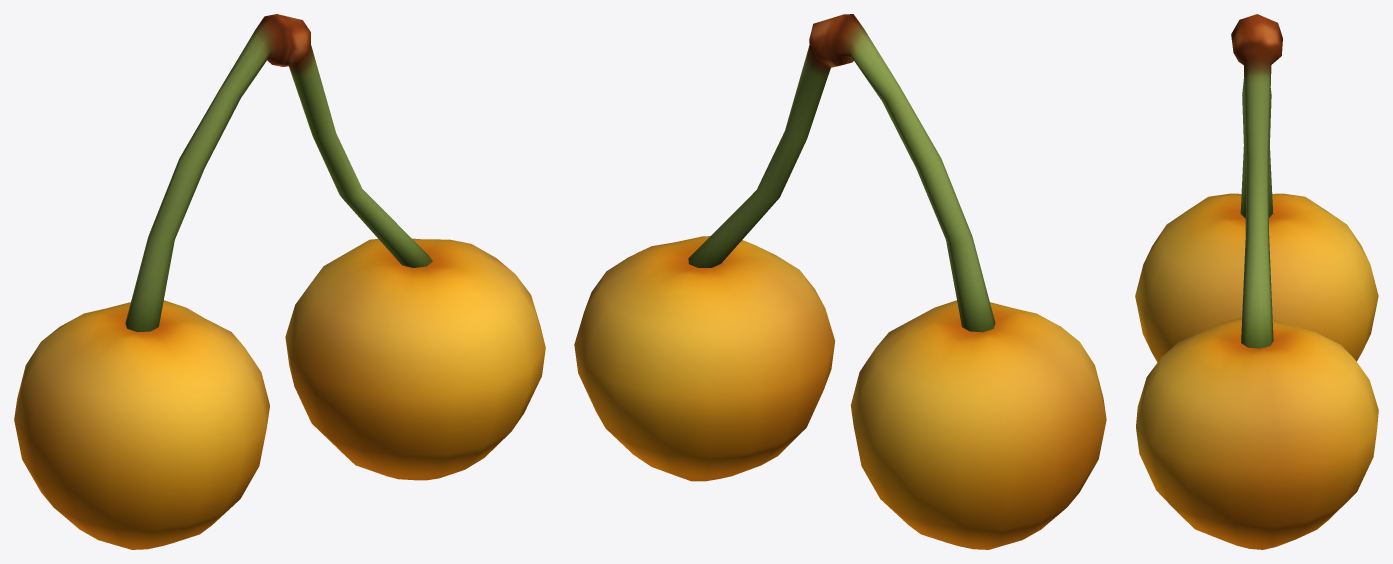
Rendered from Cherries_Yellow.fbx.
3 views of the same model, side by side, from view 1: azimuth 30°, elevation 25°; view 2: azimuth 150°, elevation 25°; view 3: azimuth 270°, elevation 25° (orthographic). The views are drawn at different scales.
Visible parts, largest first — view 1: Cherries_Yellow; view 2: Cherries_Yellow; view 3: Cherries_Yellow.
Part boxes in pixels (x1,y1,x2,y2): Cherries_Yellow: (14,14,545,549); Cherries_Yellow: (574,14,1106,549); Cherries_Yellow: (1135,14,1378,549).
Bounding box in the file's own units: 32.21 × 30.46 × 14.52.
